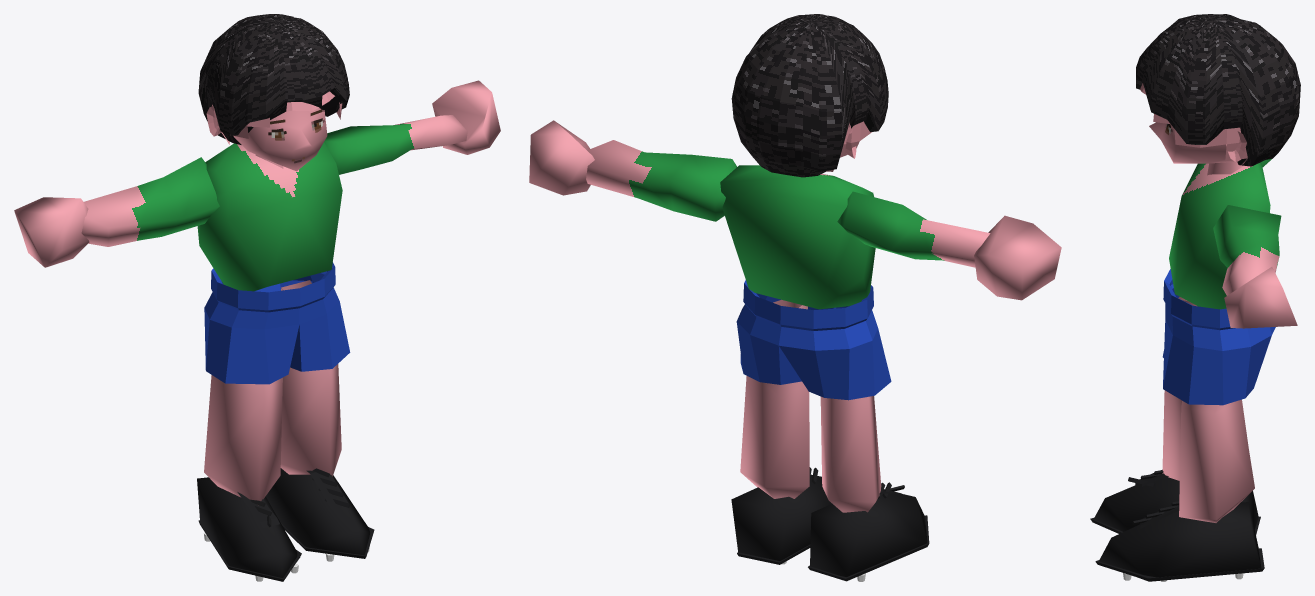
Rendered from 05-crespo-curto_preto.glb.
The picture shows the model from 3 angles, left to right: view 1: azimuth 30°, elevation 25°; view 2: azimuth 150°, elevation 25°; view 3: azimuth 270°, elevation 25°; orthographic projection. The views are drawn at different scales.
Visible parts, largest first — view 1: Camisa_Tronco, Bermuda, Cabelo, Perna.R, Braco.R, Perna.L, Chuteira.R, Chuteira.L, Braco.L, Mao.R, Cabeca, Mao.L (+2 smaller); view 2: Cabelo, Camisa_Tronco, Bermuda, Perna.L, Braco.L, Chuteira.R, Perna.R, Braco.R, Mao.R, Chuteira.L, Mao.L, Chuteira_Sola.R; view 3: Cabelo, Bermuda, Chuteira.L, Camisa_Tronco, Perna.L, Braco.L, Mao.L, Chuteira.R, Perna.R, Cabeca, Couro_Cabeludo, Chuteira_Sola.L (+3 smaller).
Boxes of the visible parts, x1,y1,x2,y2 form: Camisa_Tronco: (197,142,342,291); Bermuda: (204,262,350,384); Cabelo: (198,14,349,144); Perna.R: (204,375,282,505); Braco.R: (81,157,219,246); Perna.L: (280,280,341,476); Chuteira.R: (197,477,300,577); Chuteira.L: (265,468,370,555); Braco.L: (324,115,467,174); Mao.R: (14,197,89,267); Cabeca: (233,108,327,171); Mao.L: (432,80,500,154); Cabelo: (731,14,888,177); Camisa_Tronco: (720,165,875,309); Bermuda: (736,280,891,400); Perna.L: (740,299,809,498); Braco.L: (586,140,736,221); Chuteira.R: (810,489,927,576); Perna.R: (820,396,881,512); Braco.R: (837,191,990,267); Mao.R: (974,215,1061,300); Chuteira.L: (731,474,831,560); Mao.L: (529,120,594,195); Chuteira_Sola.R: (808,515,929,581); Cabelo: (1136,14,1300,166); Bermuda: (1162,269,1275,405); Chuteira.L: (1099,502,1261,581); Camisa_Tronco: (1169,162,1270,309); Perna.L: (1179,400,1254,522); Braco.L: (1213,205,1281,295); Mao.L: (1224,267,1297,328); Chuteira.R: (1094,473,1258,531); Perna.R: (1162,297,1247,480); Cabeca: (1149,122,1238,163); Couro_Cabeludo: (1140,83,1247,164); Chuteira_Sola.L: (1095,548,1264,581).
Size of the model in its own units: 0.4523 by 0.4596 by 0.1641.
3 materials, 3 textured.
